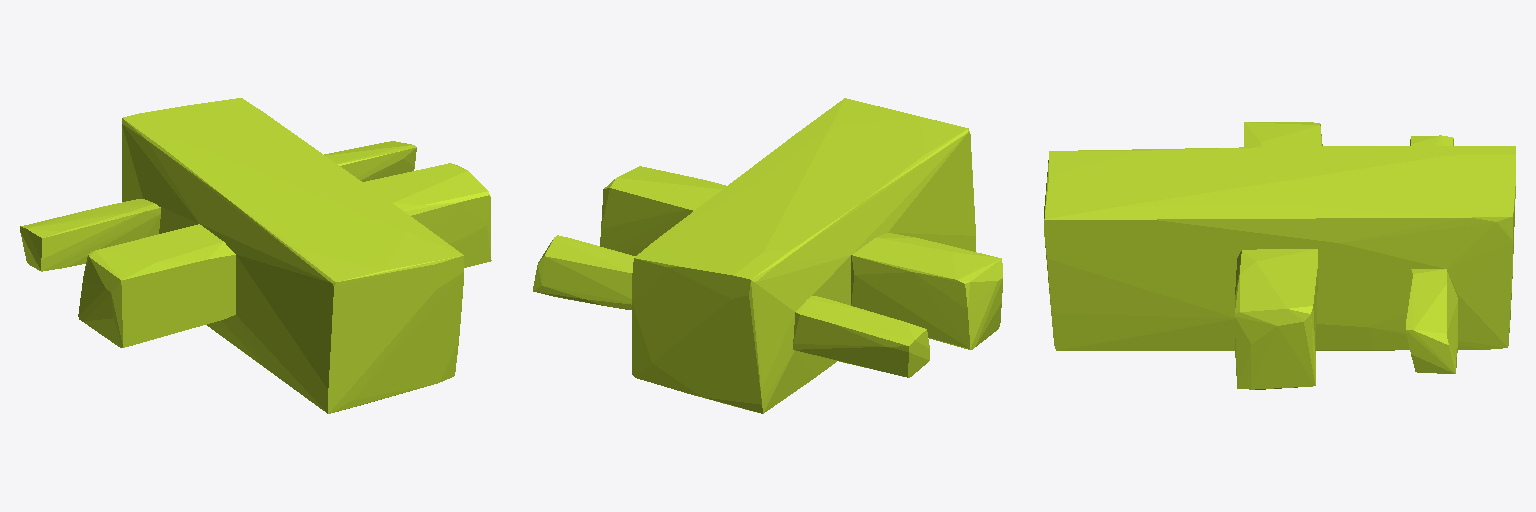
robot.urdf — blob131:
<robot name="blob131">
  <link name="random_obj_131">
    <contact>
      <lateral_friction value="1.0"/>
      <rolling_friction value="0.0"/>
      <inertia_scaling value="3.0"/>
      <contact_cfm value="0.0"/>
      <contact_erp value="1.0"/>
    </contact>
    <inertial>
      <origin rpy="0 0 0" xyz="0 0 0"/>
      <mass value="0.1"/>
      <inertia ixx="1" ixy="0" ixz="0" iyy="1" iyz="0" izz="0"/>
    </inertial>
    <visual>
      <origin rpy="0 0 0" xyz="0 0 0"/>
      <geometry>
        <mesh filename="131.obj" scale="0.015 0.015 0.015"/>
      </geometry>
      <material name="blockmat">
        <color rgba="0.79 0.91 0.24 1"/>
      </material>
    </visual>
    <collision>
      <origin rpy="0 0 0" xyz="0 0 0"/>
      <geometry>
        <mesh filename="131.obj" scale="0.015 0.015 0.015"/>
      </geometry>
    </collision>
  </link>
</robot>

--- Facts derived from the render (not from the file) ---
3 views of the same robot in one strip: view 1: azimuth 30°, elevation 25°; view 2: azimuth 150°, elevation 25°; view 3: azimuth 270°, elevation 25° (orthographic).
Robot: blob131 — 1 links, 0 joints (none); root link random_obj_131; default pose: every joint at zero.
Visible links, largest first — view 1: random_obj_131; view 2: random_obj_131; view 3: random_obj_131.
Link boxes in pixels (left/top/right/bottom): random_obj_131: left=20, top=98, right=491, bottom=413; random_obj_131: left=533, top=98, right=1002, bottom=413; random_obj_131: left=1044, top=122, right=1515, bottom=389.
Size in the robot's own frame: 0.0934 by 0.0934 by 0.0325 metres.
1 mesh visuals loaded from 1 distinct referenced files (1 OBJ).